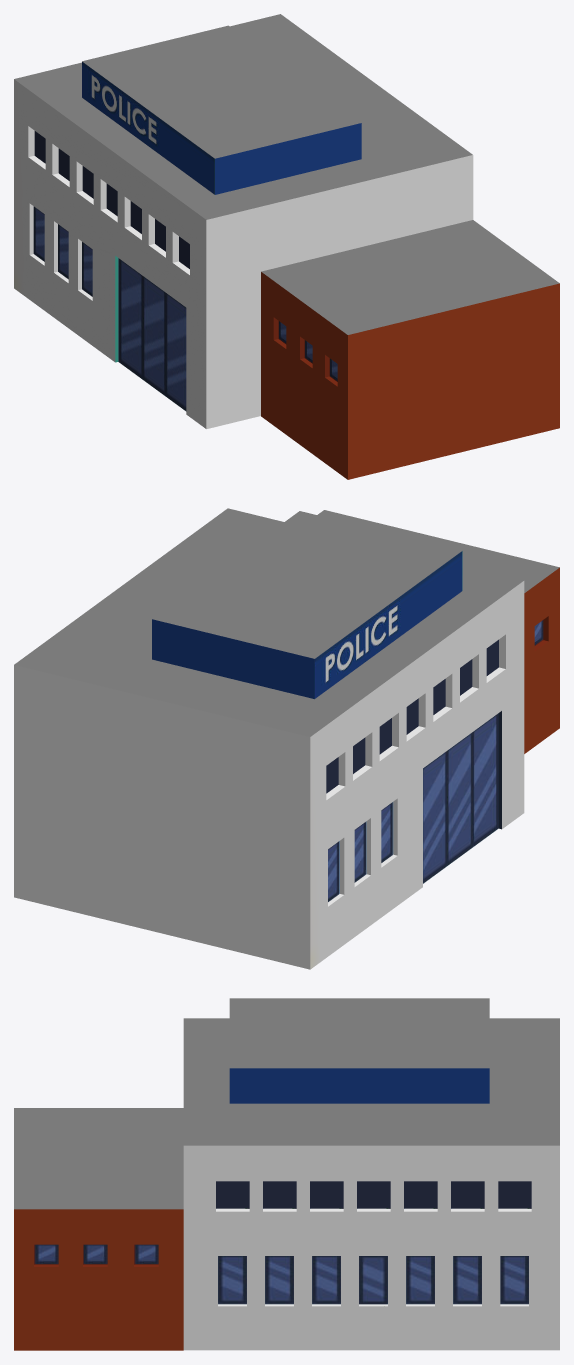
The model's file is police station.fbx.
3 renders of one model, top to bottom at view 1: azimuth 30°, elevation 25°; view 2: azimuth 150°, elevation 25°; view 3: azimuth 270°, elevation 25°, orthographic. The views are drawn at different scales.
Visible parts, largest first — view 1: Cube.001; view 2: Cube.001; view 3: Cube.001.
Boxes of the visible parts, x1,y1,x2,y2 form: Cube.001: (14,14,559,479); Cube.001: (14,508,559,969); Cube.001: (14,998,559,1350).
Size of the model in its own units: 640 by 564 by 1161.
1 material, 1 textured.
